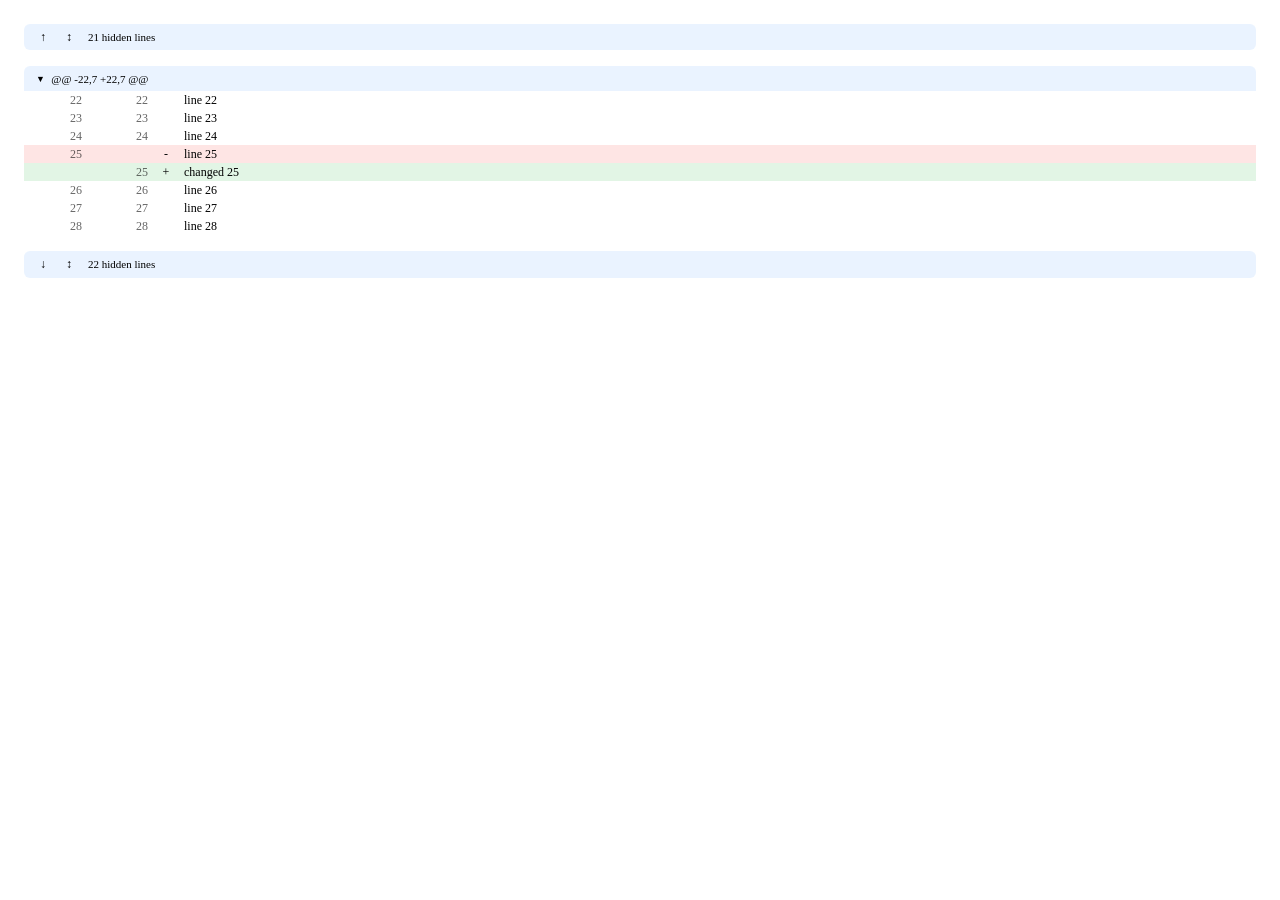
it: find also searches expanded lines
This screenshot has width=1280, height=900.
Expected: the text "21 hidden lines" is shown, [88,29,155,45]
Type keys "{Meta>}f{/Meta}"
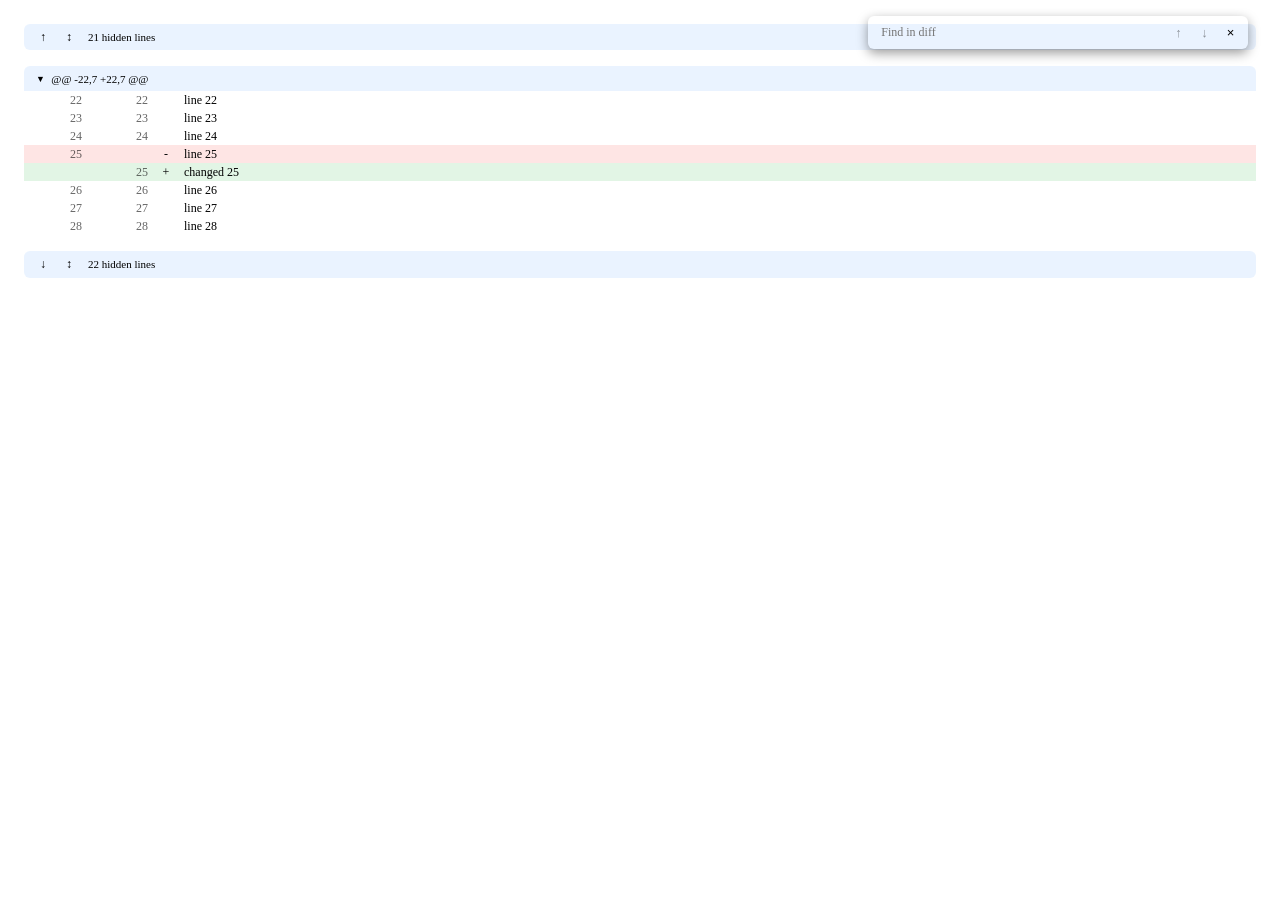
In the field labelled "Find in diff": (981, 32) [875,21,1088,44], type "line 1"
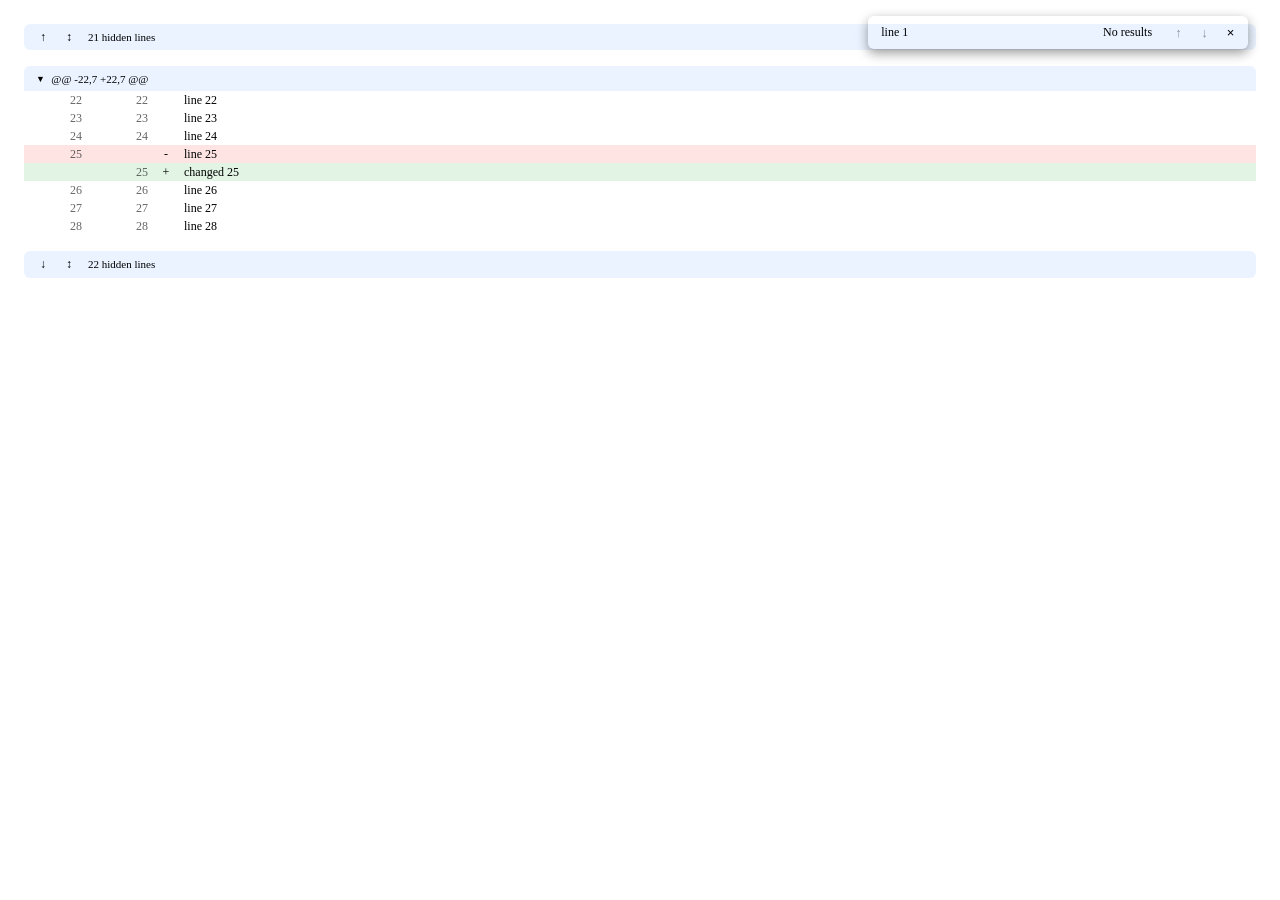
Expected: the text "No results" is shown, [1103,25,1152,39]
Click the button named "Expand all": (69, 37) [58,27,80,47]
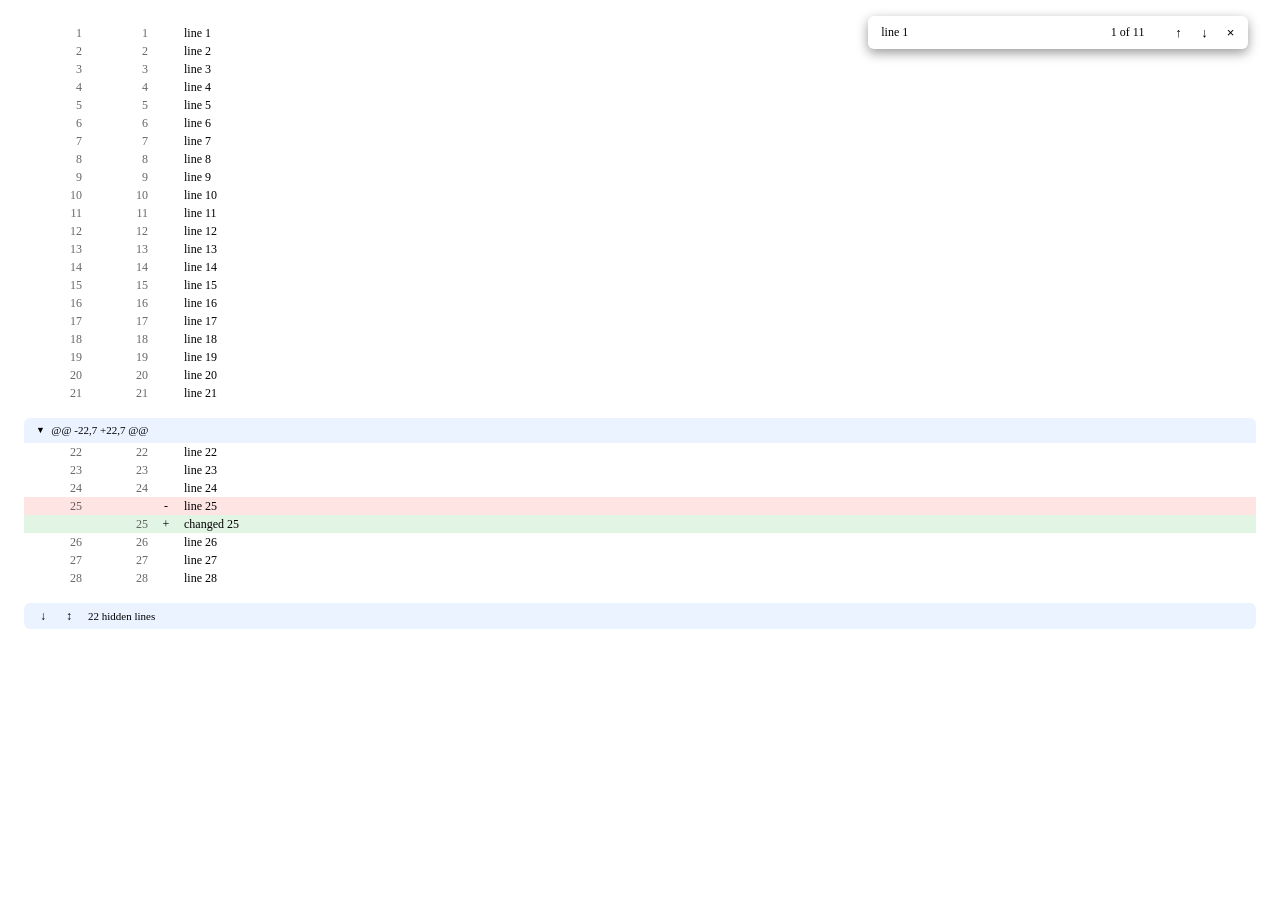
Expected: the text "1 of 11" is shown, [1111,25,1144,39]
